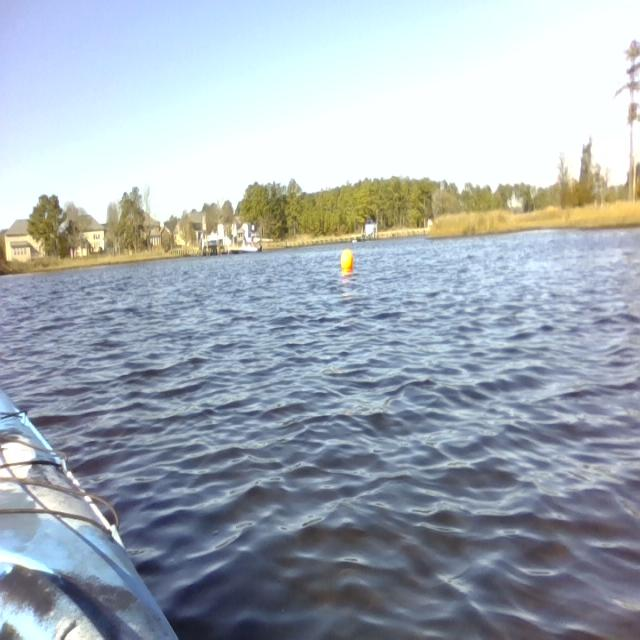Buoy: (338, 246, 356, 277)
